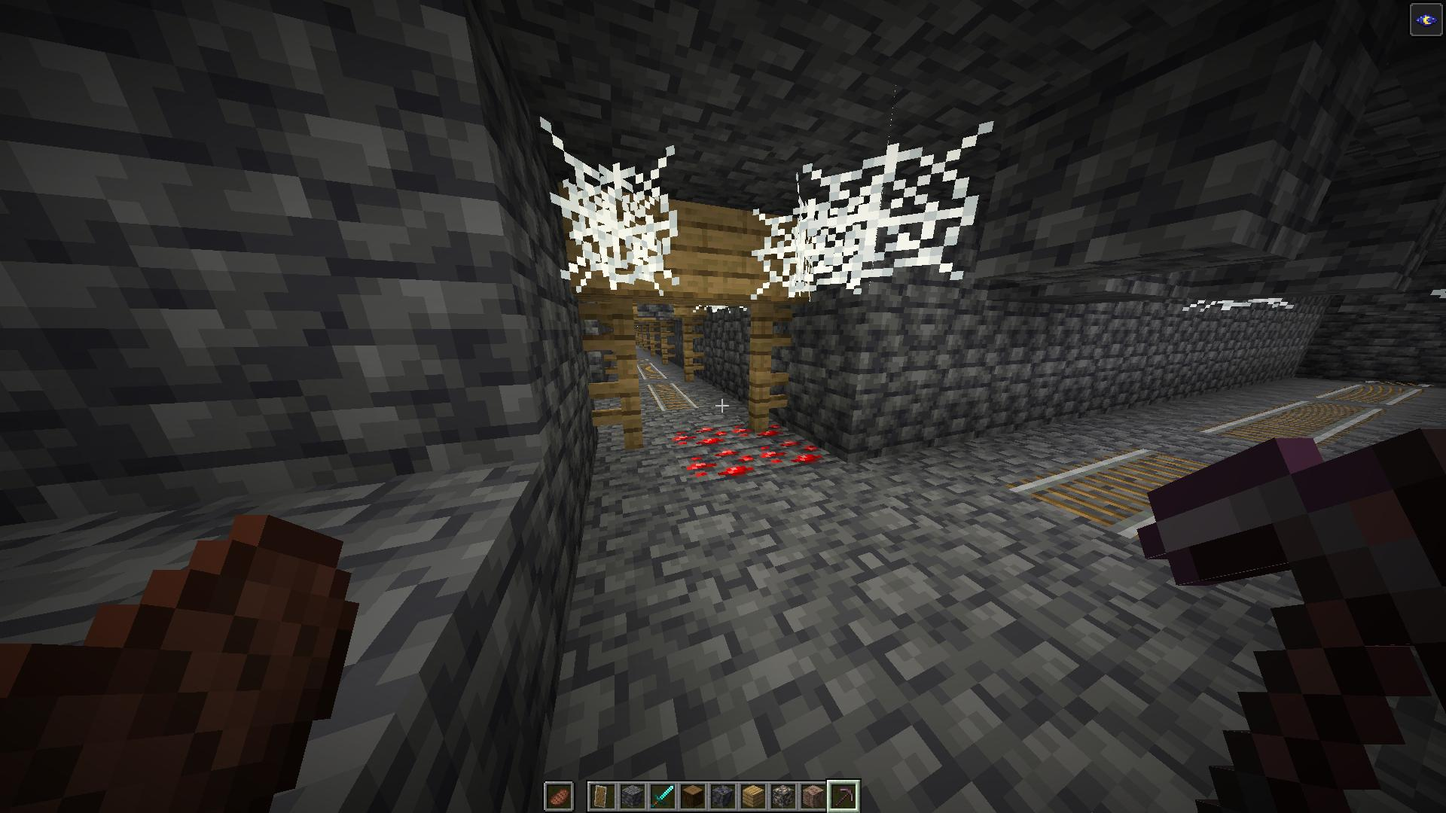redstone ore: (689, 451, 752, 487), (759, 441, 824, 469), (671, 424, 728, 448), (736, 419, 782, 444)
